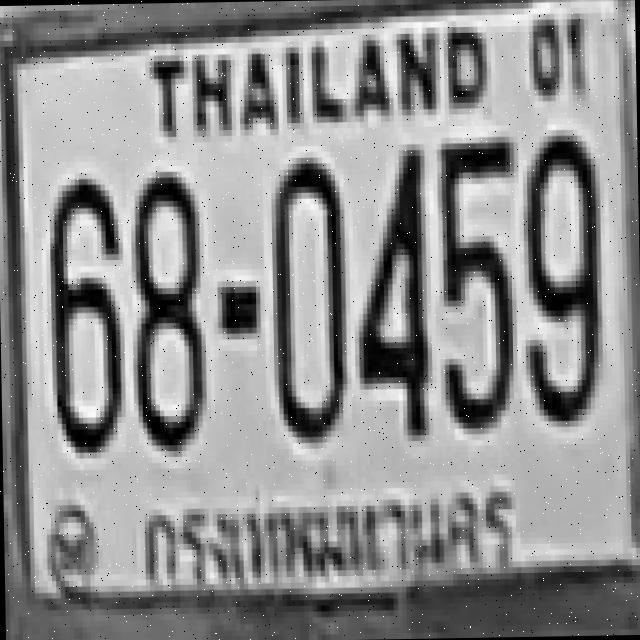0: (268, 153, 345, 440)
4: (349, 144, 427, 436)
5: (436, 130, 514, 428)
6: (45, 172, 122, 447)
8: (130, 164, 202, 446)
9: (522, 130, 600, 422)
Bangkok: (133, 474, 527, 596)
